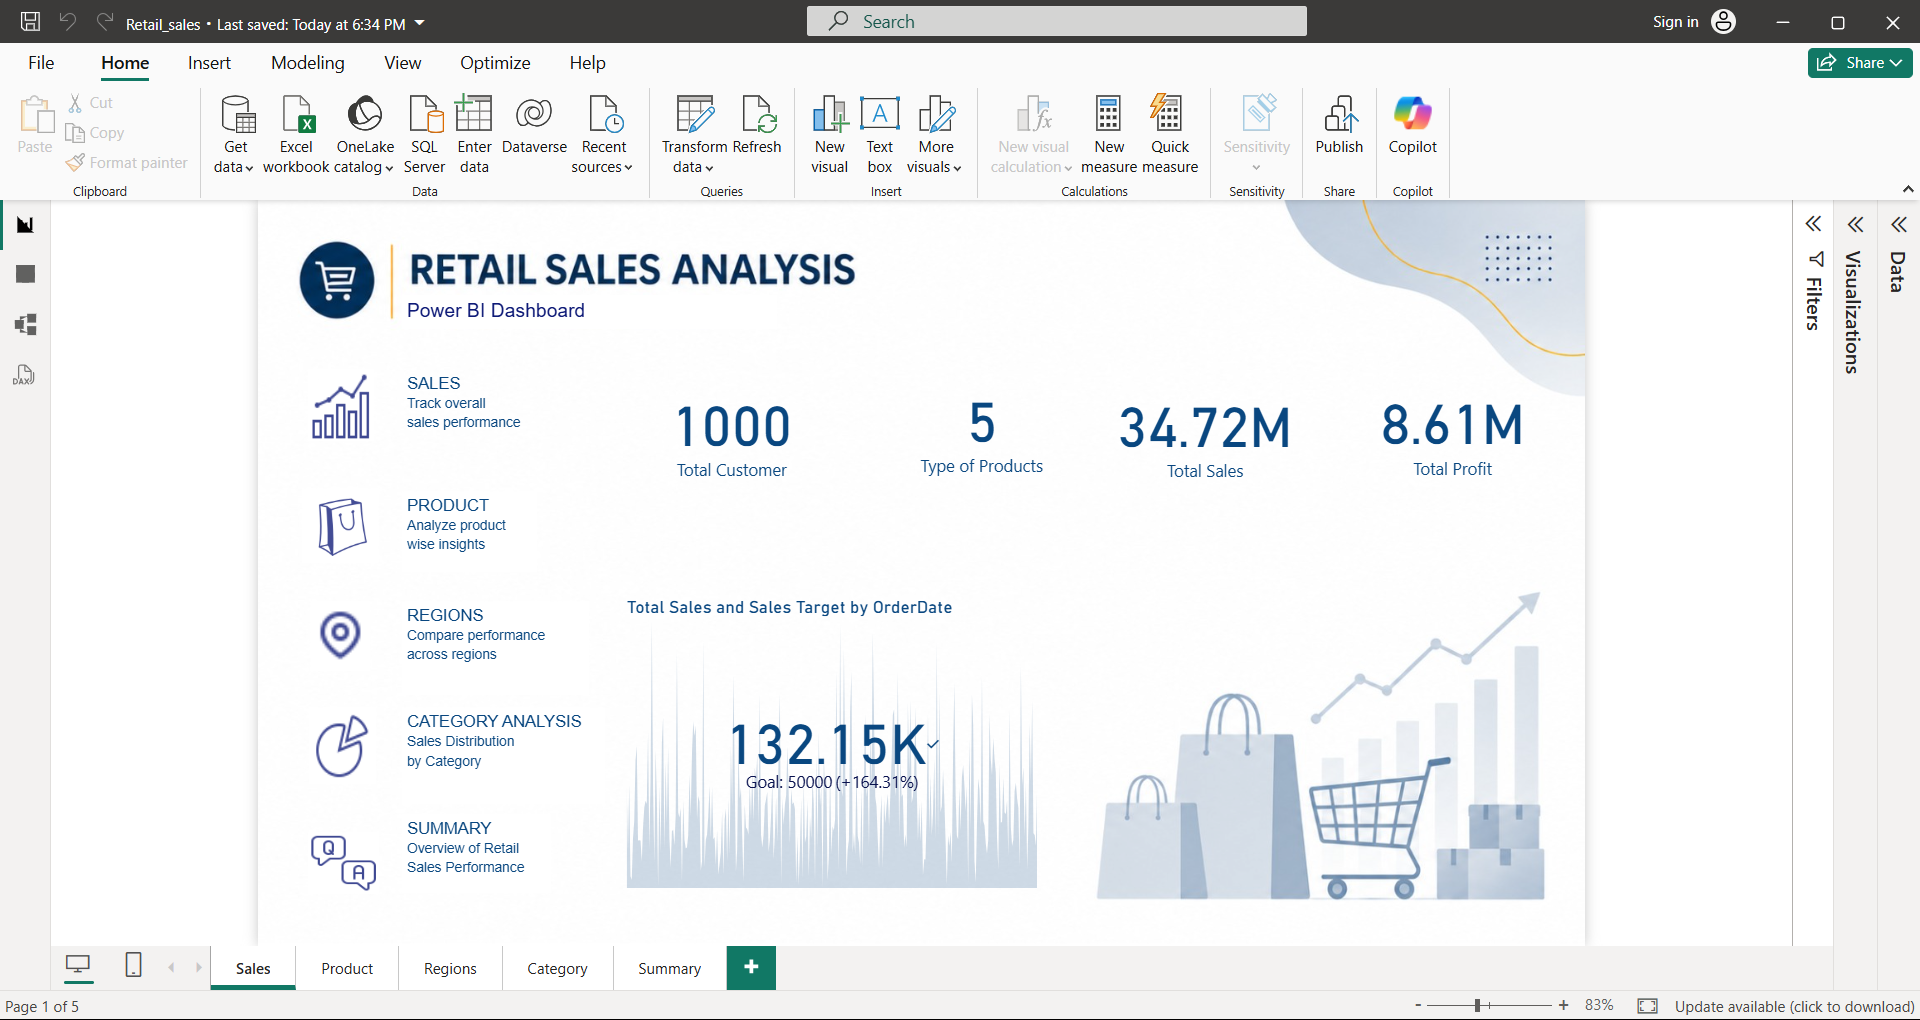

Layout of this report page (visuals, bound fields, positions):
{"tool":"powerbi","page":{"name":"Sales","canvas":[1280,720],"ordinal":0},"visuals":[{"type":"textbox","box":[138.6,91.9,362.3,32.9],"z":0},{"type":"actionButton","box":[34.3,269,91.9,90.6],"z":1000},{"type":"actionButton","box":[50.8,387,57.6,67.2],"z":2000},{"type":"actionButton","box":[48,163.3,63.1,70],"z":3000},{"type":"actionButton","box":[49.4,489.9,64.5,74.1],"z":4000},{"type":"actionButton","box":[48,610.6,68.6,59],"z":5000},{"type":"textbox","box":[138.6,163.3,130.4,70],"z":6000},{"type":"textbox","box":[138.6,281.3,130.4,78.2],"z":7000},{"type":"textbox","box":[138.6,387,181.1,90.6],"z":8000},{"type":"card","fields":{"Values":["Retail_Sales_Analytics_Dataset.Total Sales"]},"box":[805.5,148.2,216.8,149.6],"z":9000},{"type":"card","fields":{"Values":["Retail_Sales_Analytics_Dataset.Type of Products"]},"box":[592.8,144.1,212.7,149.6],"z":10000},{"type":"card","fields":{"Values":["Retail_Sales_Analytics_Dataset.Total Customer"]},"box":[351.3,146.8,212.7,149.6],"z":11000},{"type":"card","fields":{"Values":["Retail_Sales_Analytics_Dataset.Total Profit"]},"box":[1053.9,145.5,197.6,149.6],"z":12000},{"type":"textbox","box":[138.6,489.9,196.2,93.3],"z":13000},{"type":"textbox","box":[138.6,592.8,144.1,76.8],"z":14000},{"type":"kpi","fields":{"Indicator":["Retail_Sales_Analytics_Dataset.Total Sales"],"Goal":["DateTable.Sales Target"],"TrendLine":["Retail_Sales_Analytics_Dataset.OrderDate"]},"box":[351.3,382.8,406.2,286.8],"z":15000}]}

Visuals, with their boxes on the page's 1280x720 design canvas (x1, y1, x2, y2). These are canvas units, not pixel positions in the 1920x1020 screenshot, which may show the page scaled, cropped or inside an application window:
textbox: [139,92,501,125]
actionButton: [34,269,126,360]
actionButton: [51,387,108,454]
actionButton: [48,163,111,233]
actionButton: [49,490,114,564]
actionButton: [48,611,117,670]
textbox: [139,163,269,233]
textbox: [139,281,269,360]
textbox: [139,387,320,478]
card - Retail_Sales_Analytics_Dataset.Total Sales: [806,148,1022,298]
card - Retail_Sales_Analytics_Dataset.Type of Products: [593,144,806,294]
card - Retail_Sales_Analytics_Dataset.Total Customer: [351,147,564,296]
card - Retail_Sales_Analytics_Dataset.Total Profit: [1054,146,1252,295]
textbox: [139,490,335,583]
textbox: [139,593,283,670]
kpi - Retail_Sales_Analytics_Dataset.Total Sales x DateTable.Sales Target: [351,383,758,670]
